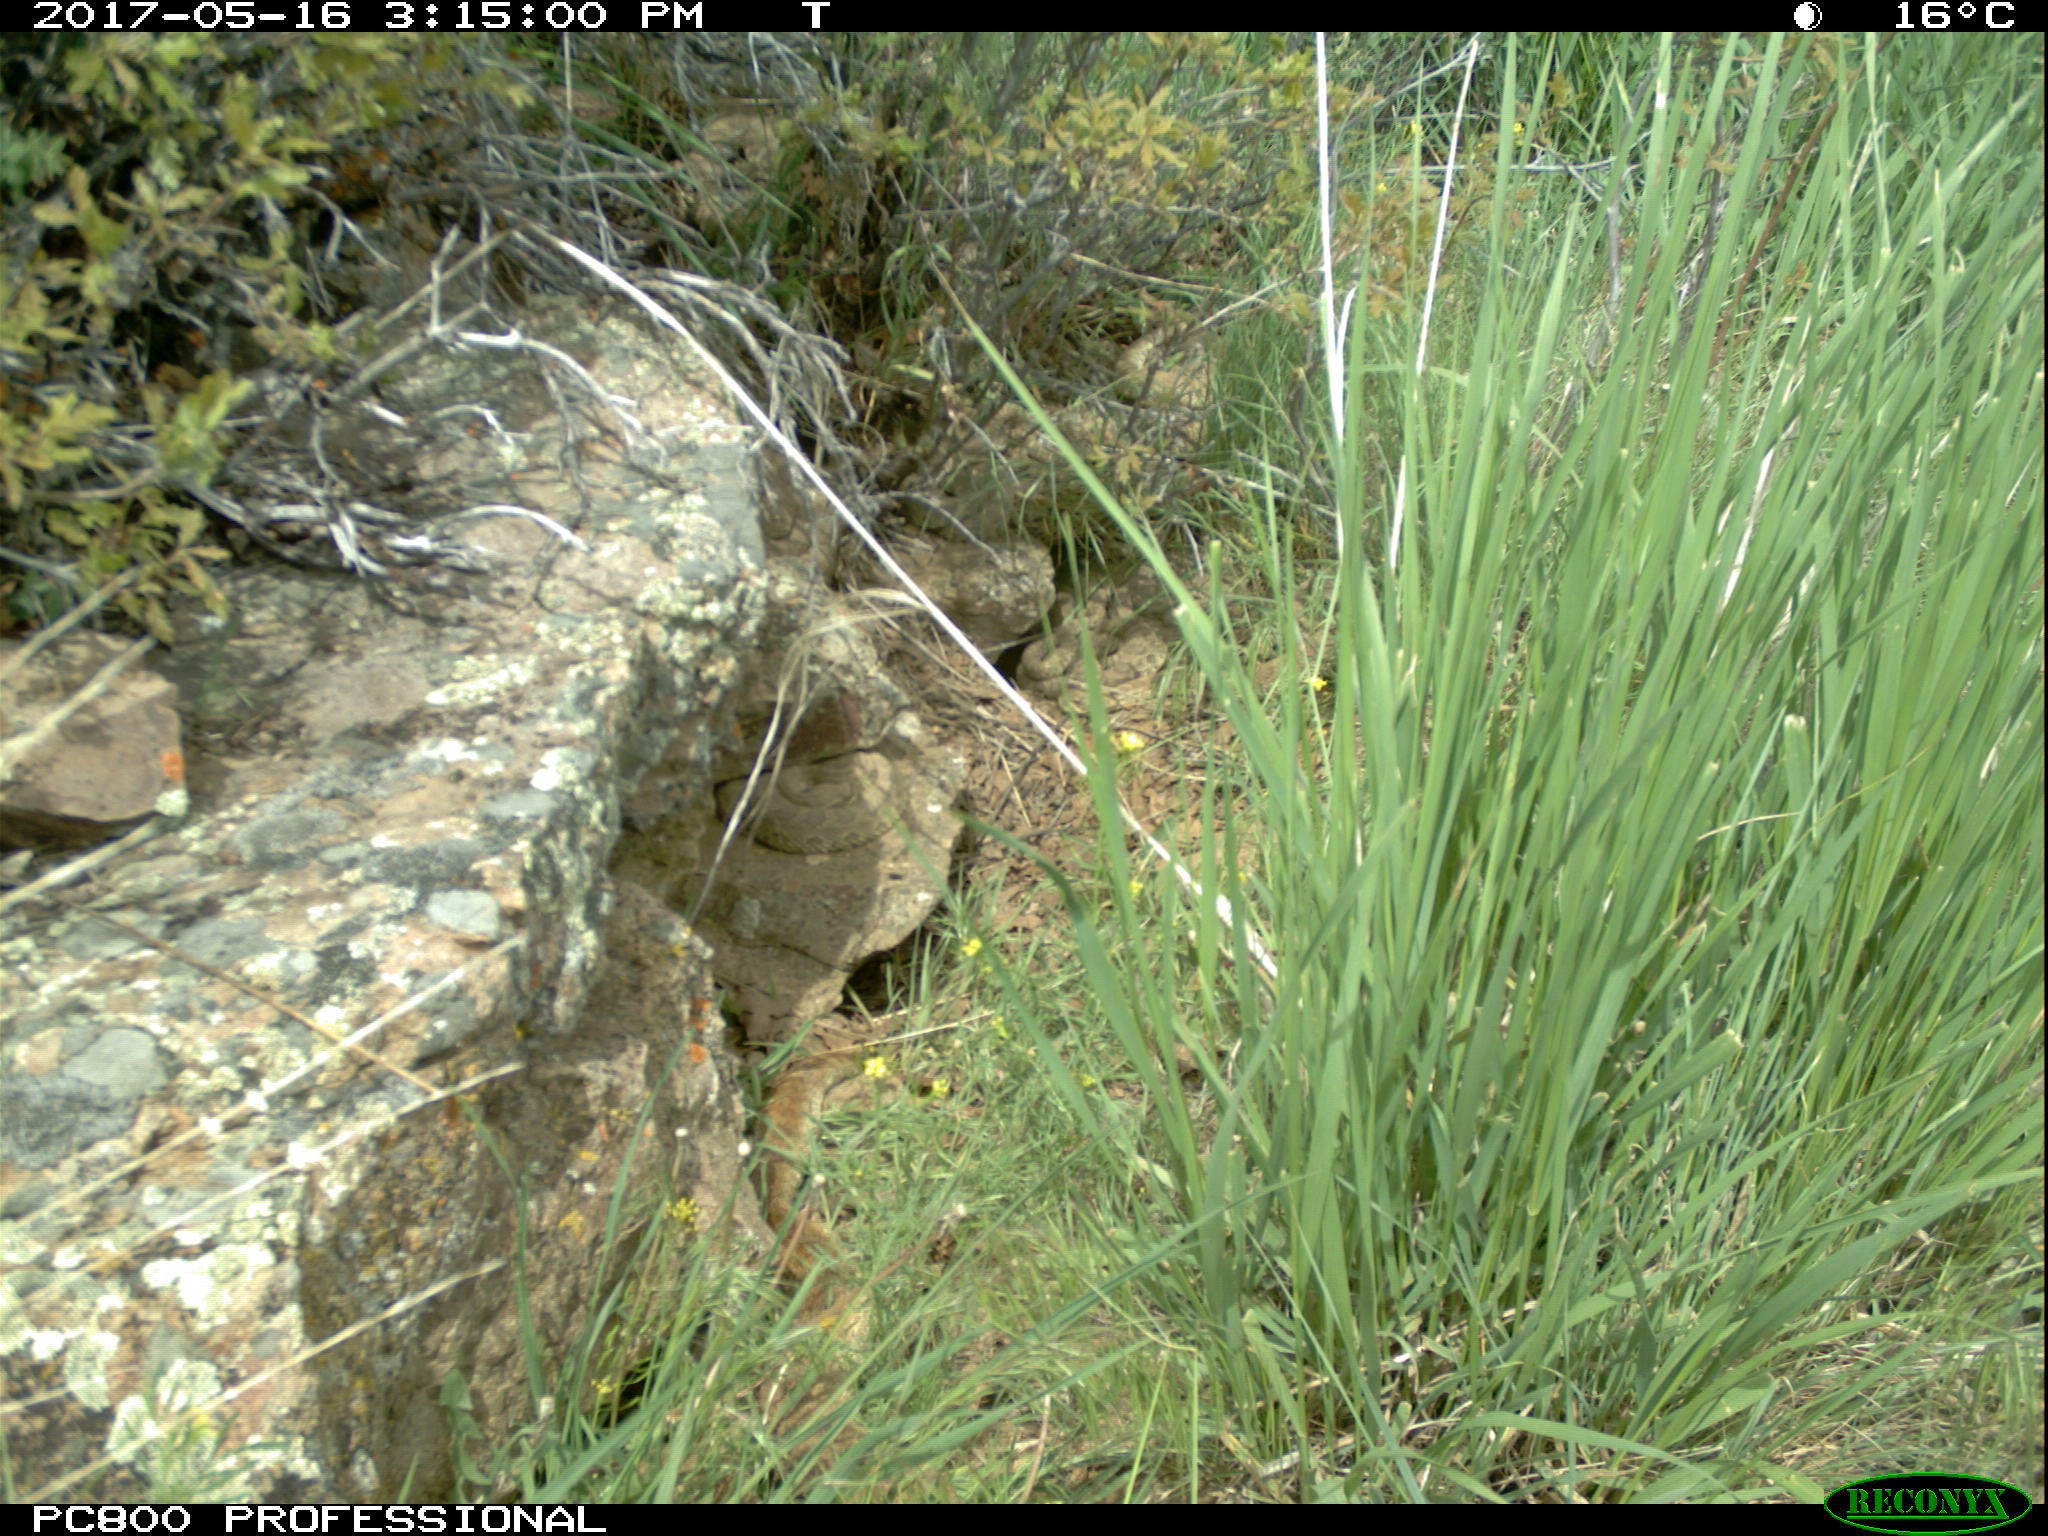snake: (753, 1037, 868, 1425), (714, 745, 900, 860), (1014, 592, 1168, 691), (1109, 315, 1213, 411)
